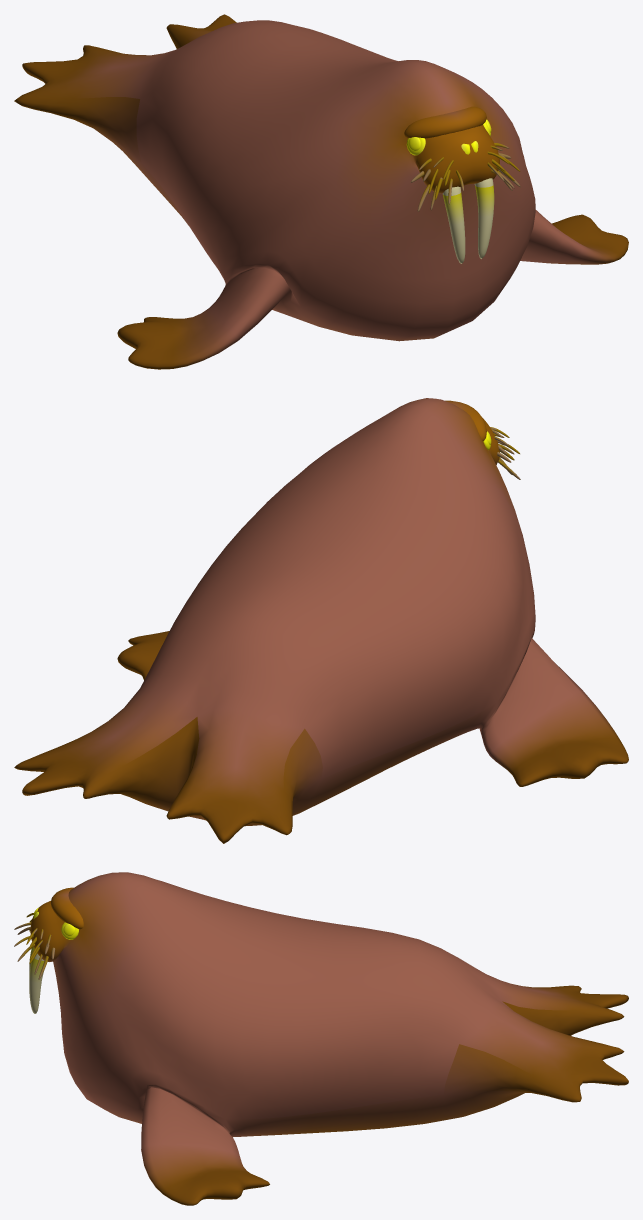
File: Walrus_Unrigged.fbx
The picture shows the model from 3 angles, top to bottom: view 1: azimuth 30°, elevation 25°; view 2: azimuth 150°, elevation 25°; view 3: azimuth 270°, elevation 25°; orthographic projection. The views are drawn at different scales.
Parts seen in each view (by area): view 1: Cube; view 2: Cube; view 3: Cube.
Boxes of the visible parts, box(x1,y1,x2,y2) form: Cube: box(14, 14, 628, 369); Cube: box(14, 398, 628, 843); Cube: box(14, 872, 628, 1205).
Bounding box in the file's own units: 570 × 312 × 714.
